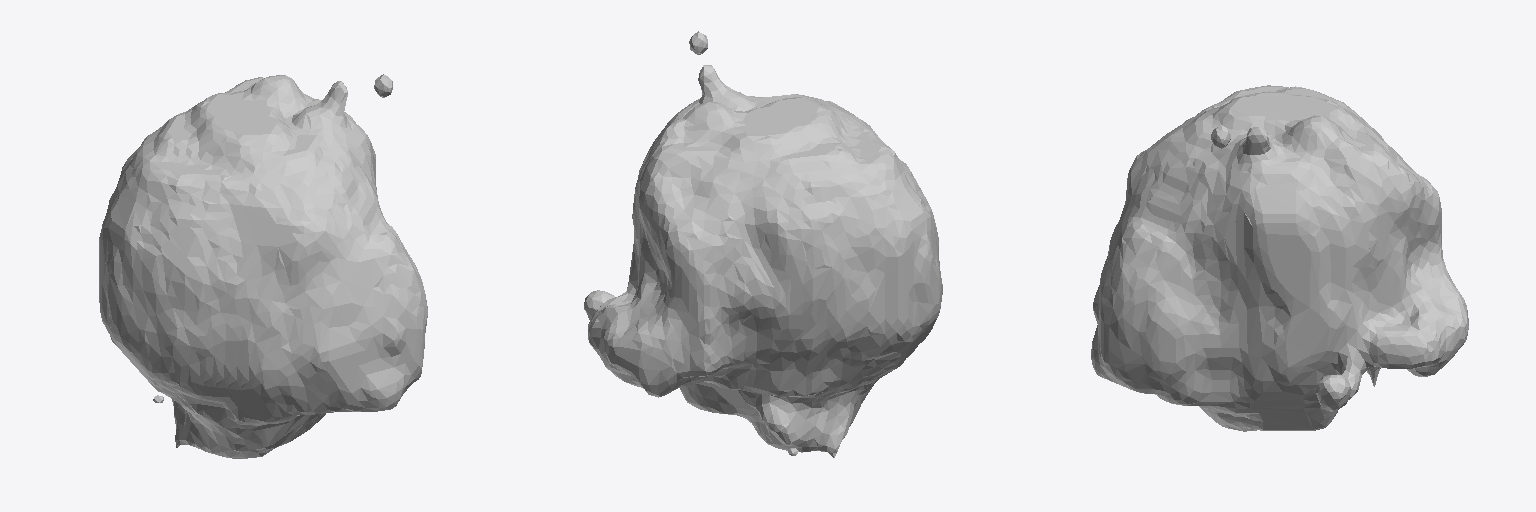
The model's file is LowTumor.obj.
3 views of the same model, side by side, from view 1: azimuth 30°, elevation 25°; view 2: azimuth 150°, elevation 25°; view 3: azimuth 270°, elevation 25° (orthographic).
Visible parts, largest first — view 1: LowTumor; view 2: LowTumor; view 3: LowTumor.
Boxes of the visible parts, x1,y1,x2,y2 form: LowTumor: [99, 74, 427, 458]; LowTumor: [584, 31, 942, 457]; LowTumor: [1091, 85, 1468, 431].
Bounding box in the file's own units: 6.68 × 7.38 × 7.06.